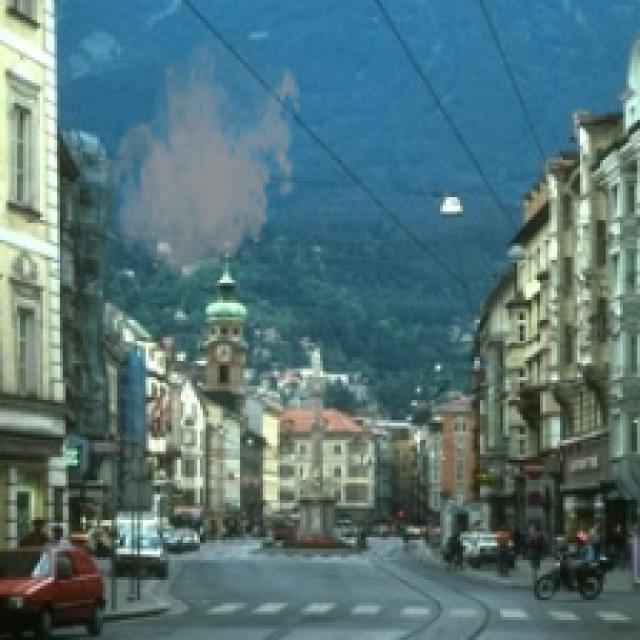Smoke: (97, 32, 306, 288)
